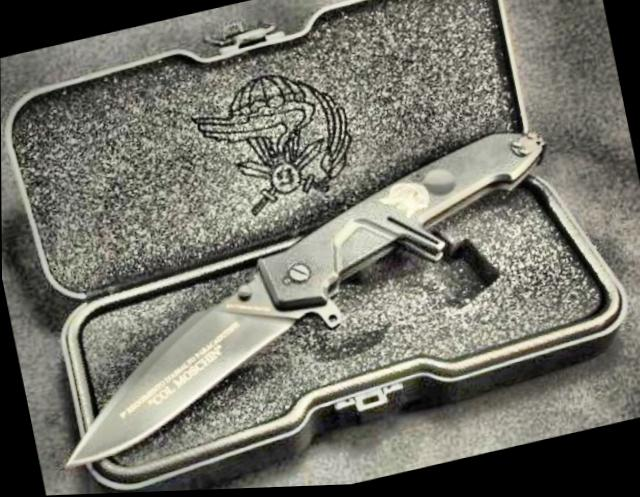knife: (25, 257, 332, 477)
